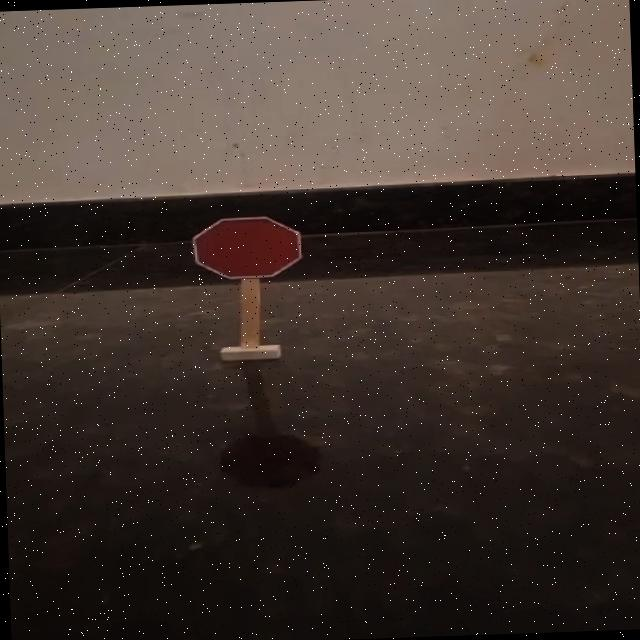Stop: (172, 203, 330, 293)
